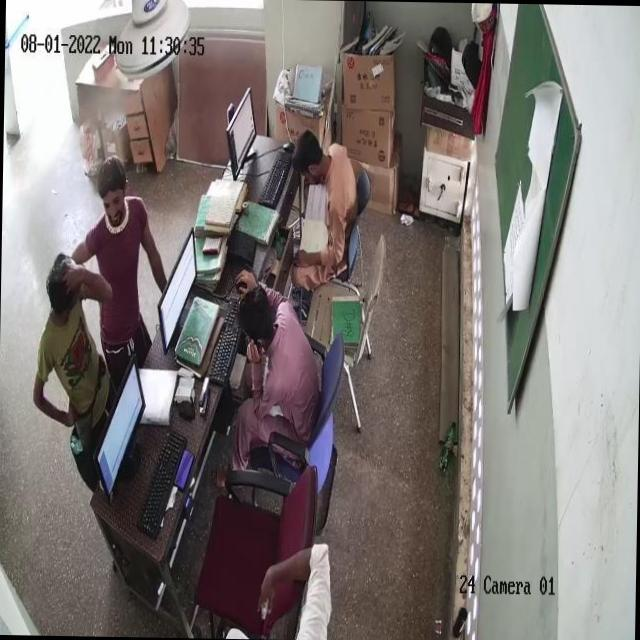person: (38, 247, 108, 430), (239, 266, 311, 438), (295, 140, 359, 286), (99, 170, 150, 337)
